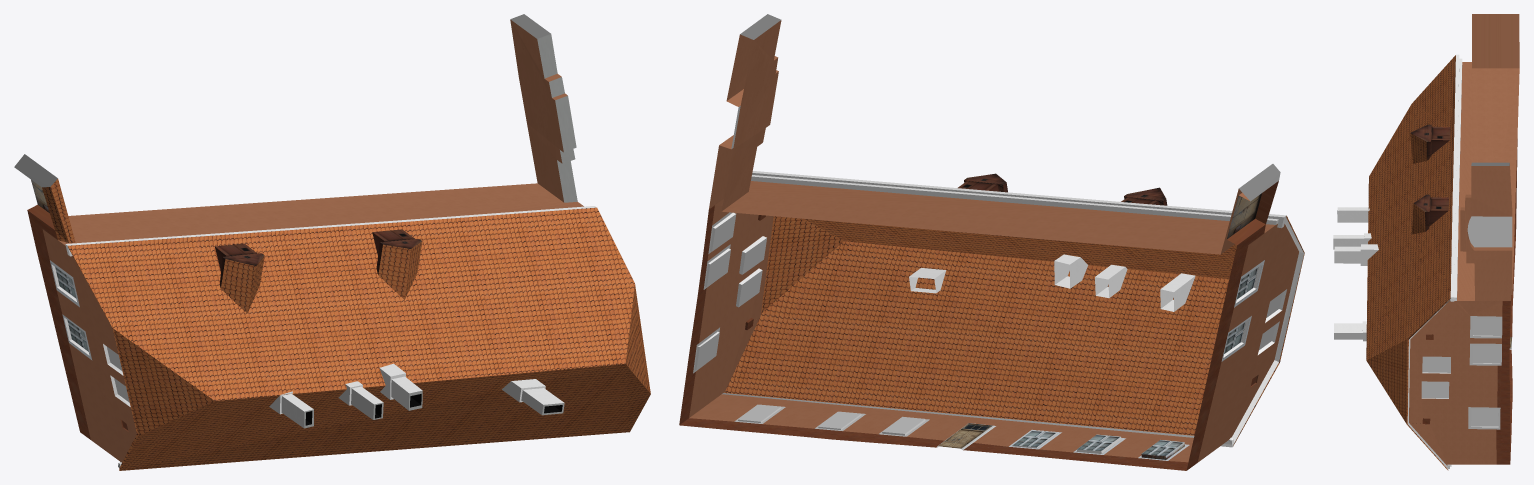
The model's file is Kiriku_8_2.obj.
3 renders of one model, left to right at view 1: azimuth 30°, elevation 25°; view 2: azimuth 150°, elevation 25°; view 3: azimuth 270°, elevation 25°, orthographic. The views are drawn at different scales.
Visible parts, largest first — view 1: Kiriku_8_2; view 2: Kiriku_8_2; view 3: Kiriku_8_2.
Part boxes in pixels (<box>): Kiriku_8_2: <box>14,14,650,470</box>; Kiriku_8_2: <box>679,14,1304,470</box>; Kiriku_8_2: <box>1333,14,1519,470</box>.
Bounding box in the file's own units: 33.8 × 22.92 × 13.66.
